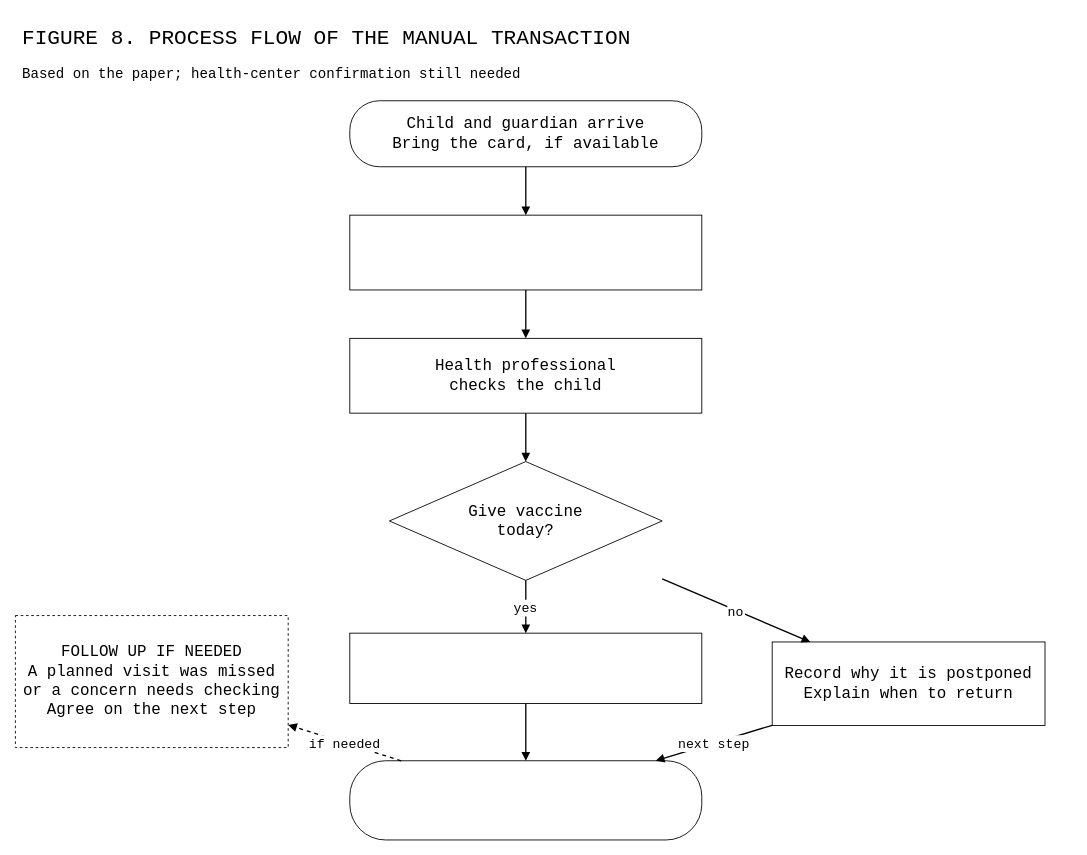
The diagram is 1087 pixels wide and 855 high, and some of its shapes have lost their labels. The shapes that lost their labels are listed below. From the top down, each one's centre as x and y in pixels, then its label:
At (525,252): "Find or create the paper record Check the recorded details".
At (525,668): "Give the vaccine Write down the dose and date".
At (525,800): "Tell the guardian the next step Update the card or record".
